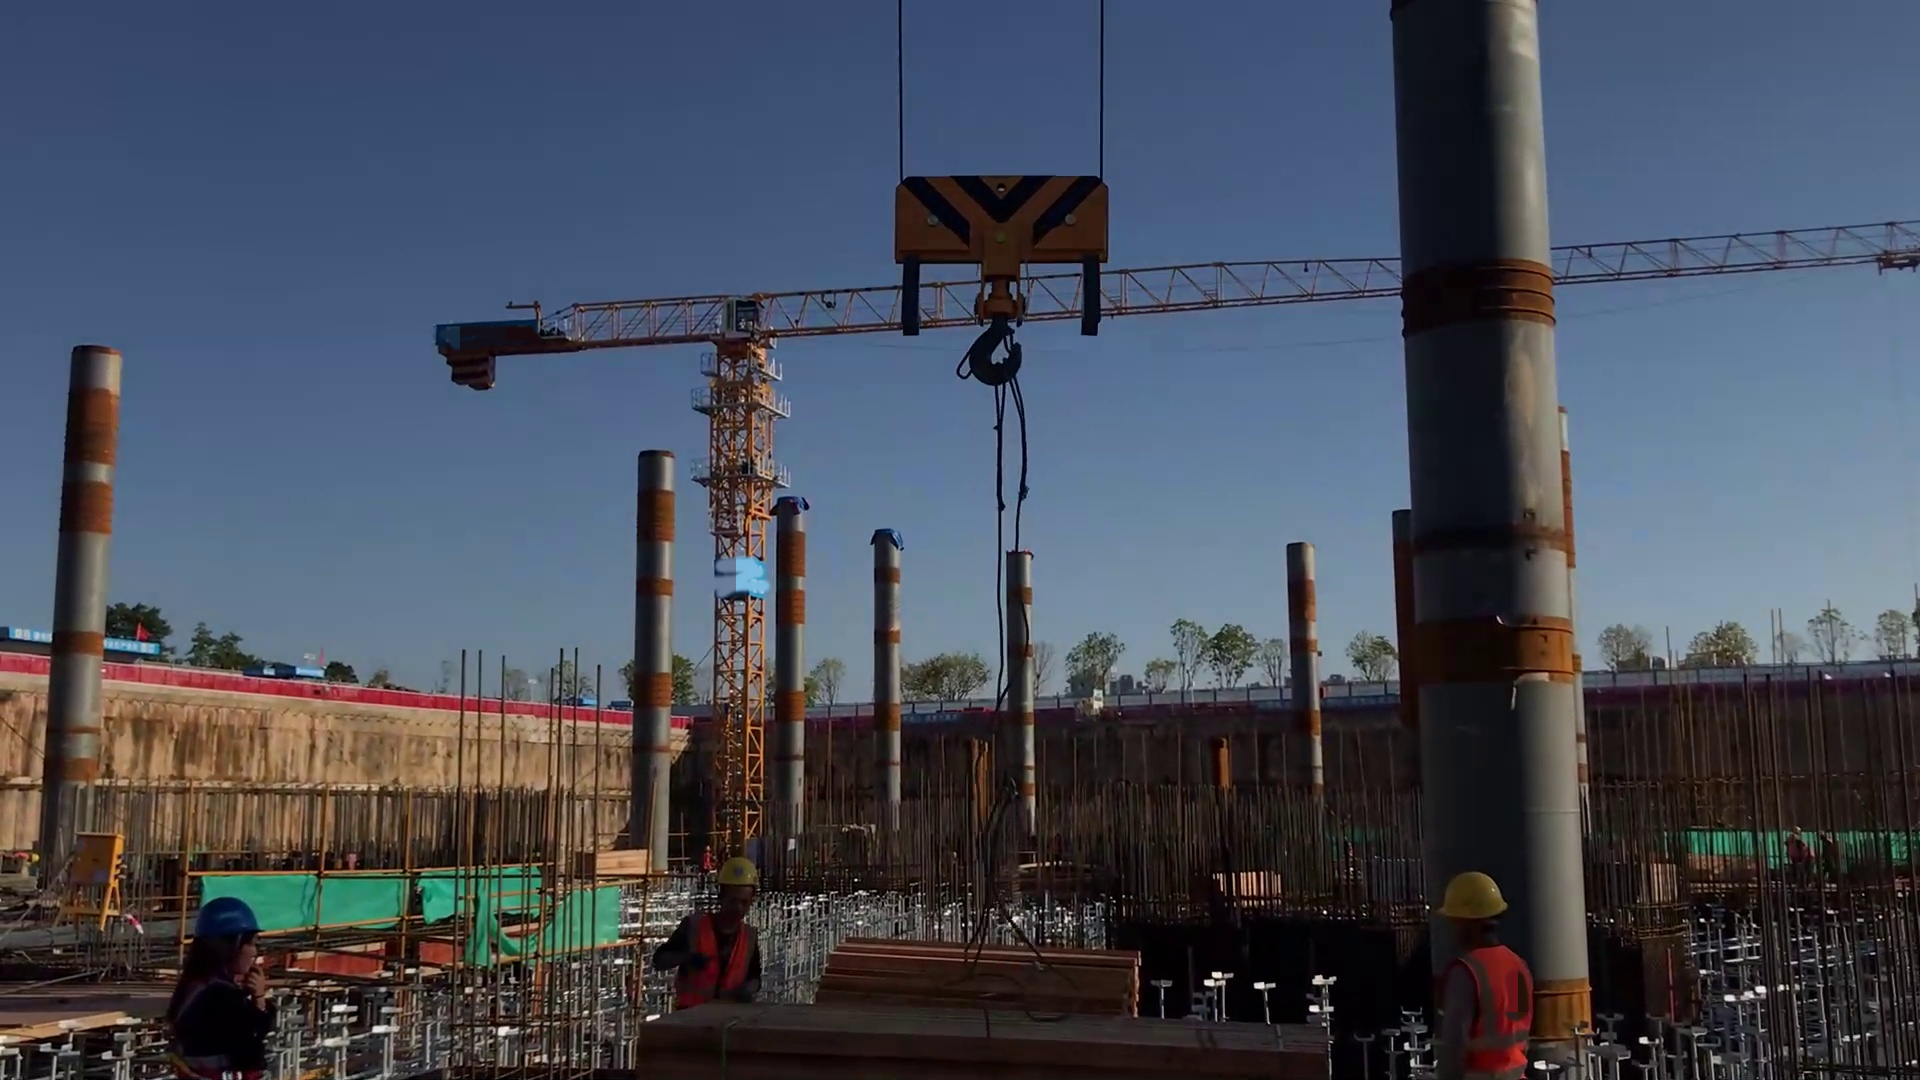ebox: (58, 816, 143, 945)
helmet: (1443, 864, 1519, 924), (196, 895, 286, 942), (708, 857, 779, 908)
hook: (893, 172, 1115, 393)
person: (1413, 860, 1554, 1080), (140, 892, 290, 1080), (650, 856, 789, 1007)
vest: (1442, 942, 1540, 1065), (159, 970, 269, 1079), (673, 904, 748, 996)
